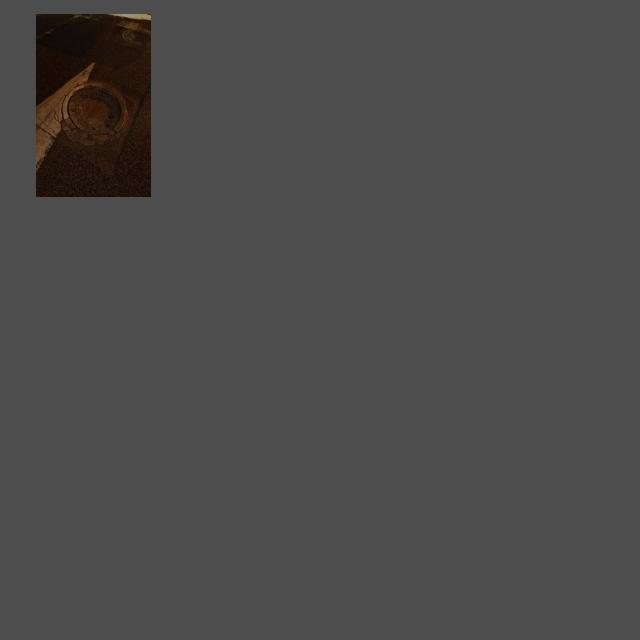circle: (45, 74, 141, 162)
